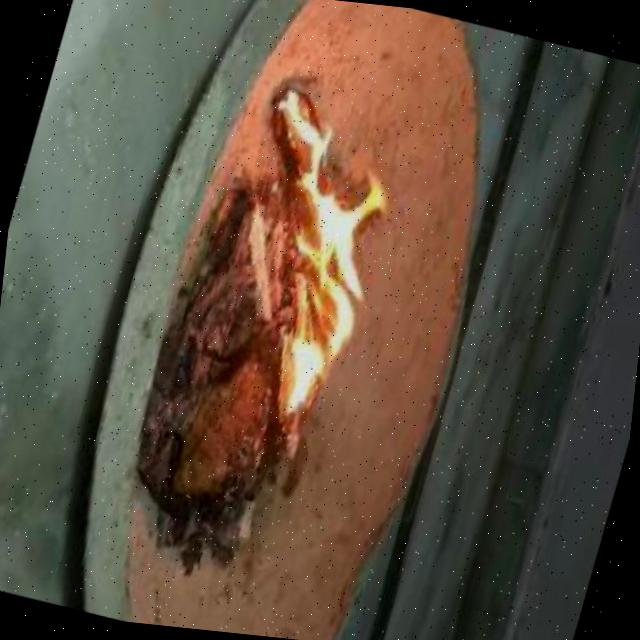fire: (228, 65, 400, 433)
